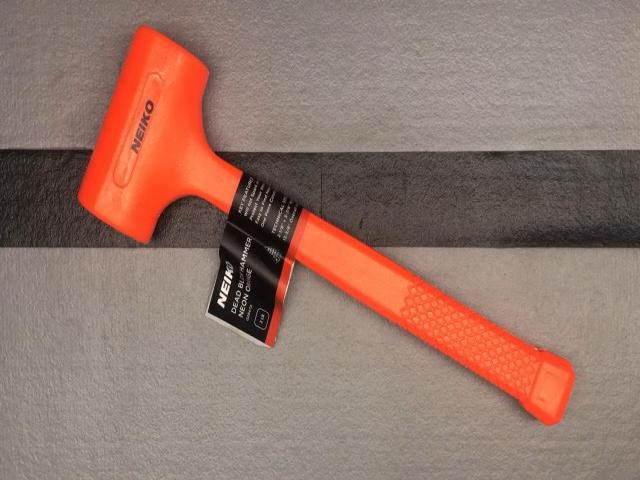hammer: (77, 28, 579, 425)
